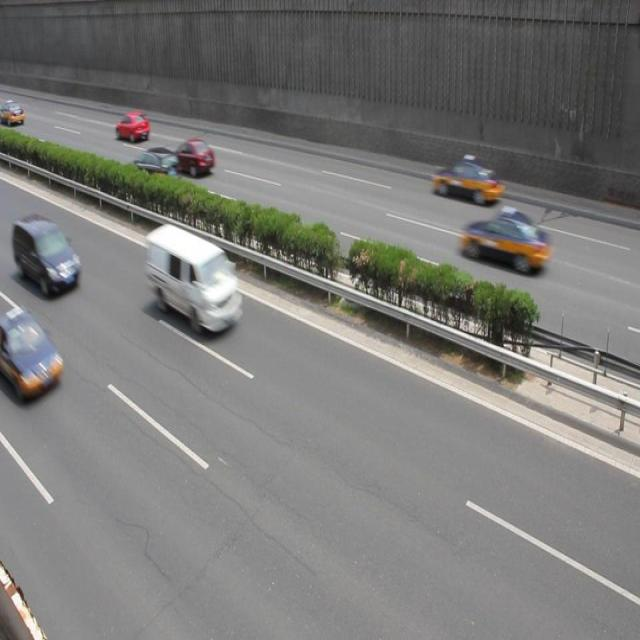car: (460, 205, 550, 273), (0, 304, 62, 402), (431, 155, 501, 205), (128, 144, 180, 188), (172, 138, 216, 178), (116, 111, 150, 144)
truck: (144, 222, 242, 337), (13, 216, 80, 300)
